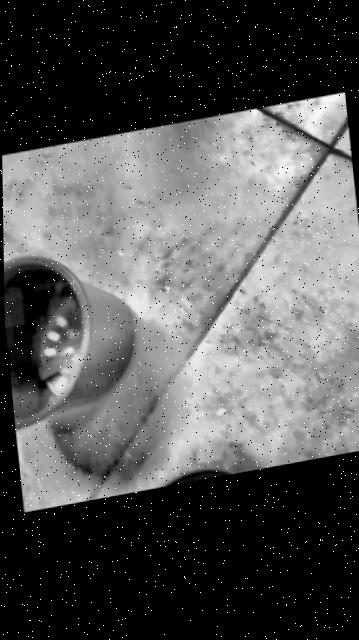pot: (4, 238, 140, 432)
